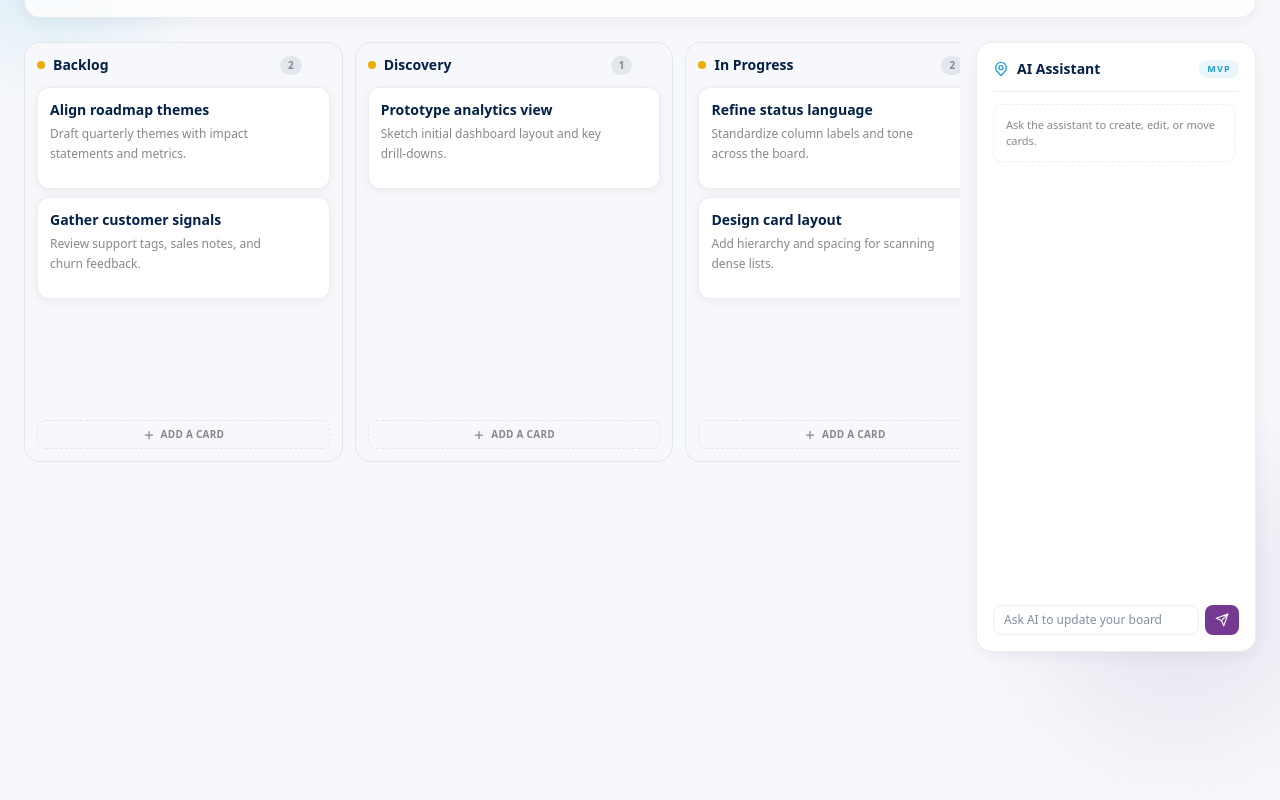
Test: KanbanBoard › shows error when saveBoard fails
(page scrolled)
Expected: the element with test id "column-col-backlog" is shown, x1=24 y1=42 x2=343 y2=462
Click the 1st button "Add a card" at (183, 434), box x1=37 y1=420 x2=330 y2=449
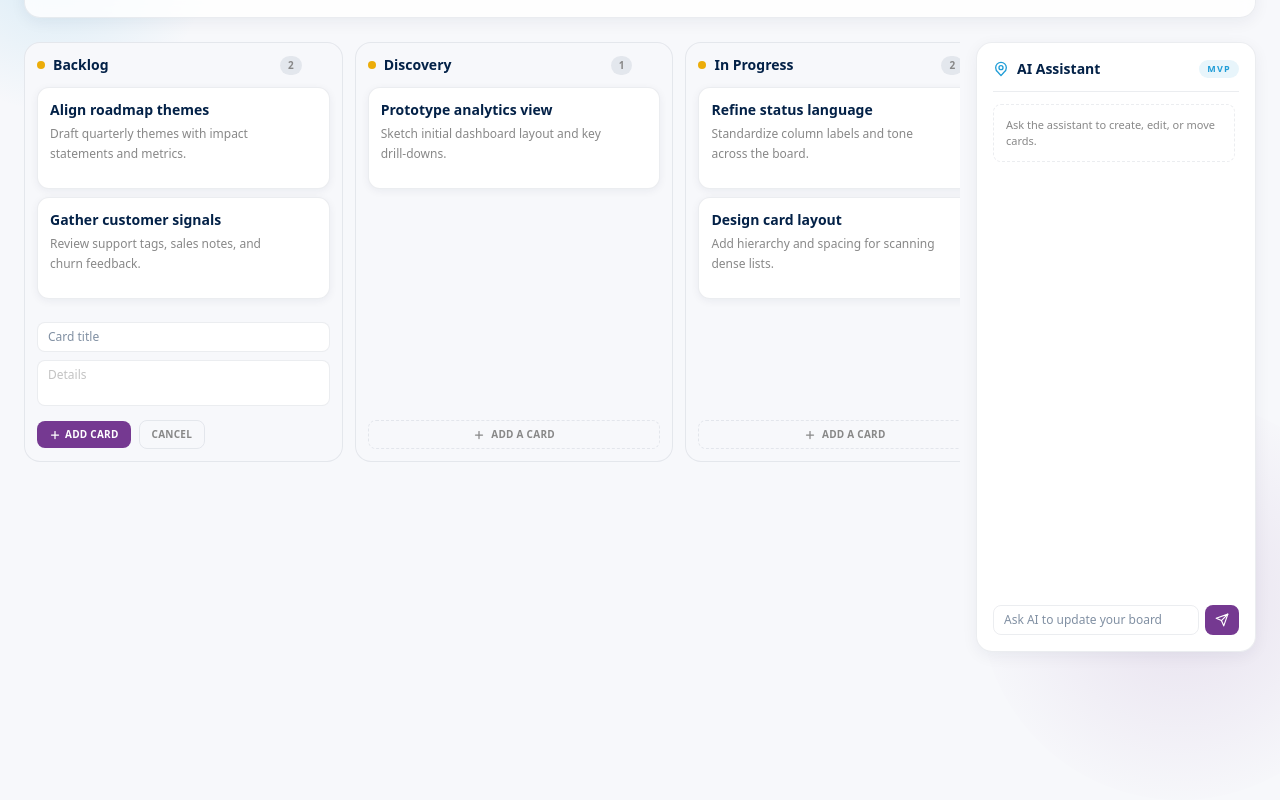
Type "Fail card" into the field with placeholder "Card title" at (183, 337), box x1=37 y1=322 x2=330 y2=352
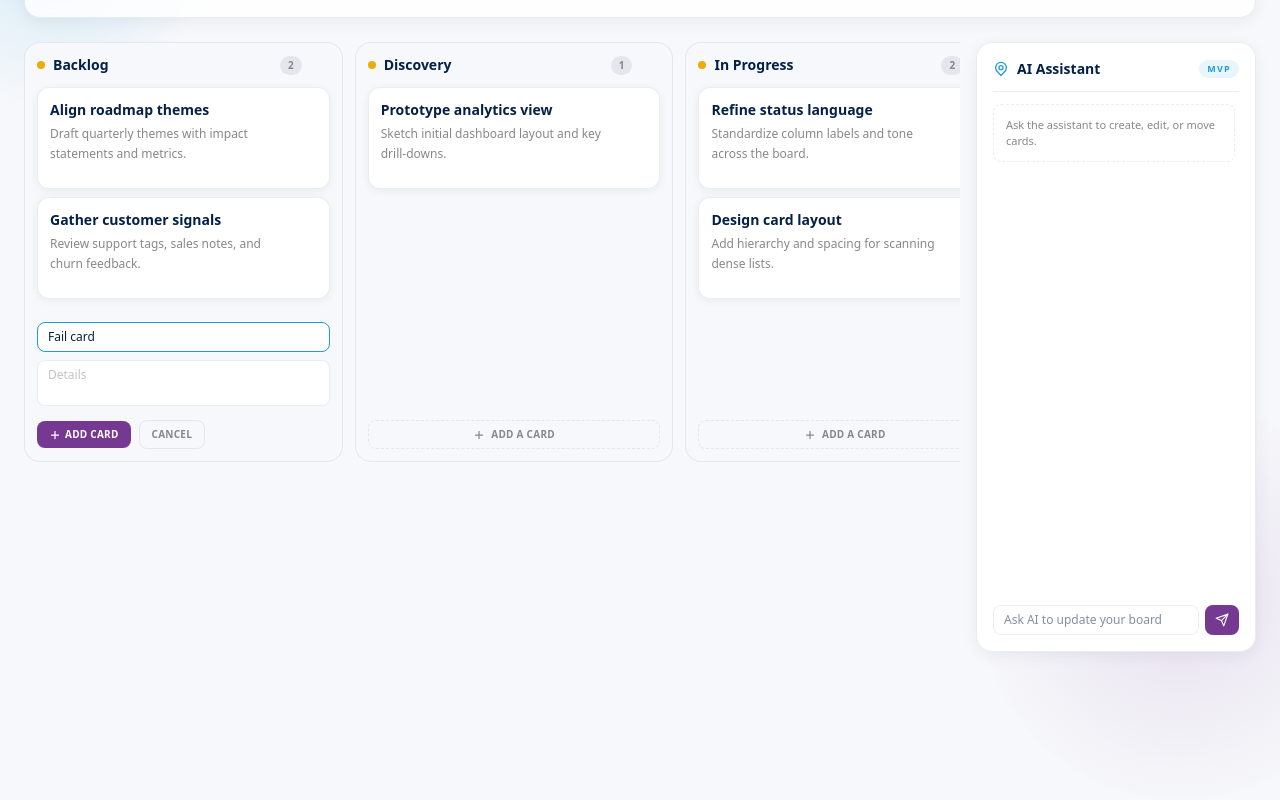
Type "Notes" into the text box with placeholder "Details" at (183, 383), box x1=37 y1=360 x2=330 y2=406
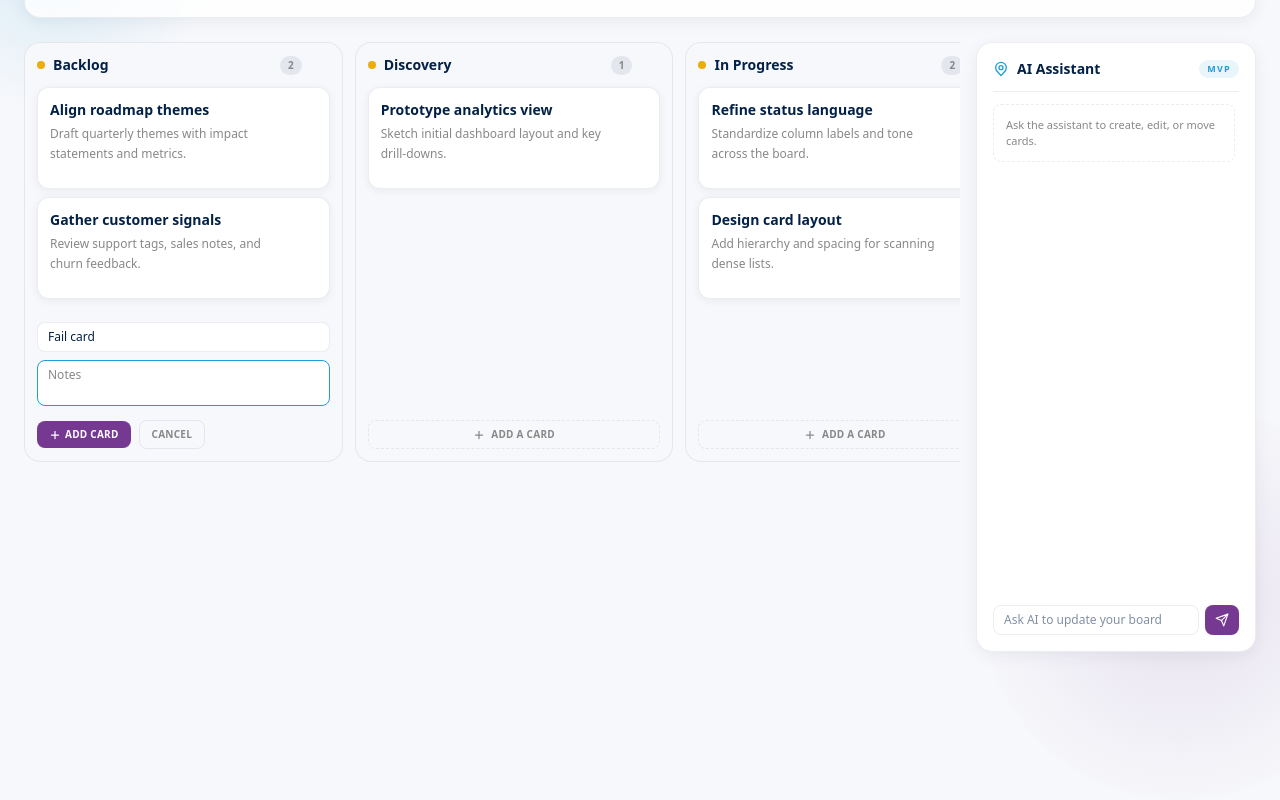
Click the button "Add card" at (84, 434), box x1=37 y1=421 x2=131 y2=448
(page scrolled)
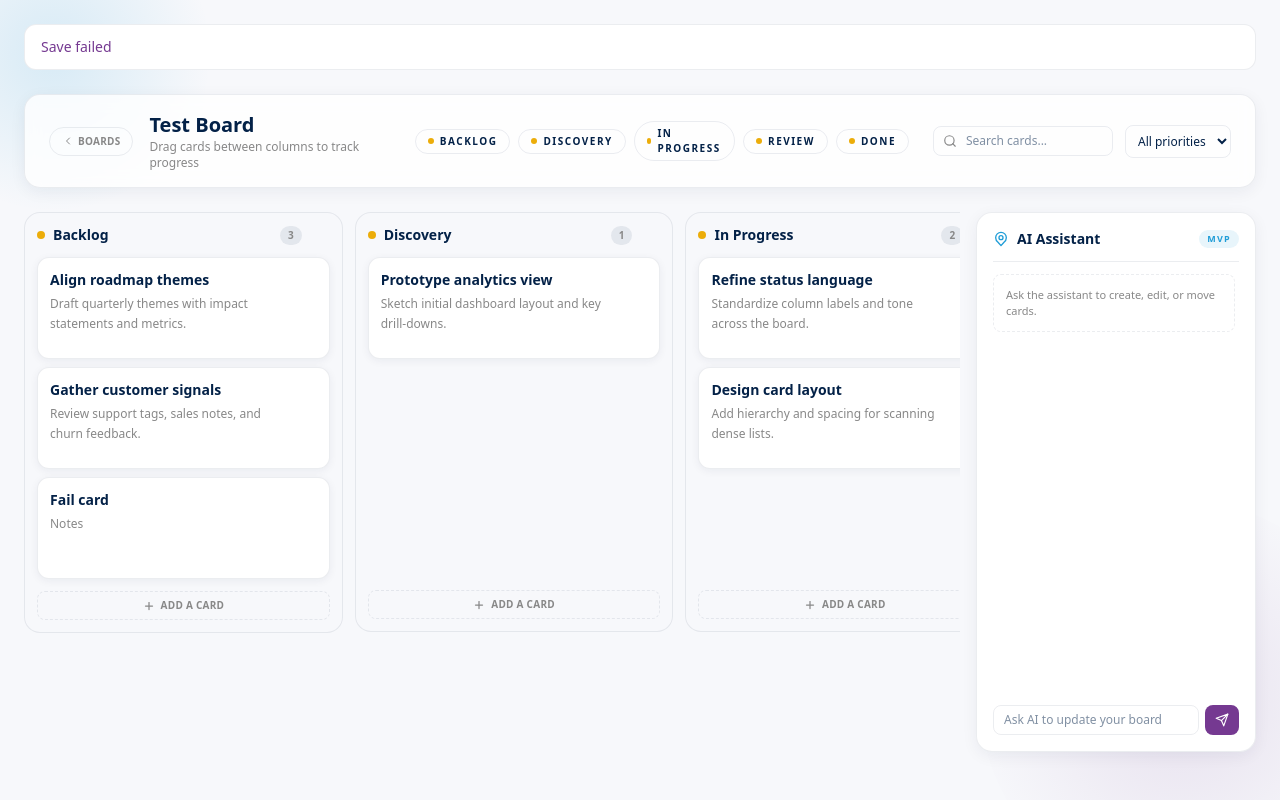
Now the message reads "Save failed", box x1=41 y1=37 x2=112 y2=56
